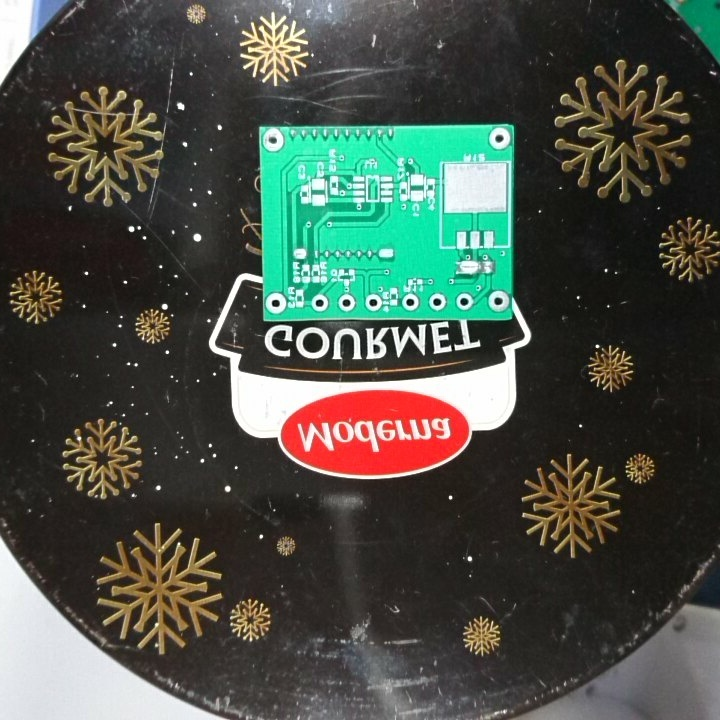F: (260, 126, 285, 155), (487, 126, 511, 152), (265, 290, 288, 315), (486, 288, 508, 312), (335, 292, 358, 313), (428, 291, 449, 314), (363, 292, 385, 313), (400, 292, 421, 313), (309, 291, 330, 311), (454, 291, 474, 310)
P: (454, 257, 482, 278), (376, 243, 396, 264), (291, 246, 310, 262)
